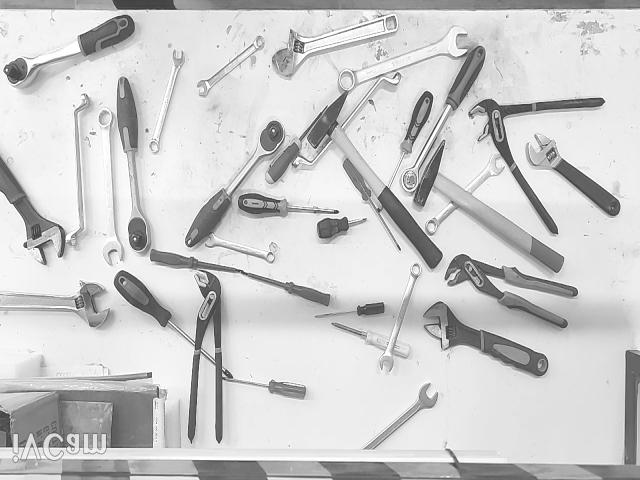Adjustable spanner: (423, 301, 548, 377), (271, 13, 399, 80), (526, 134, 620, 217), (0, 158, 65, 265), (0, 282, 109, 328)
Gas wrench: (469, 98, 605, 235), (445, 253, 579, 330), (188, 270, 222, 444)
Hammer: (307, 88, 445, 269), (413, 138, 565, 274)
Ratchet: (185, 119, 285, 247), (400, 46, 486, 193), (4, 15, 135, 87), (116, 77, 150, 253)
Screwdriver: (114, 271, 235, 378), (377, 92, 434, 213), (342, 157, 401, 252), (265, 103, 328, 185), (242, 273, 331, 307), (330, 323, 410, 357), (238, 193, 339, 217), (150, 248, 244, 273), (222, 377, 306, 400), (318, 217, 367, 240), (315, 302, 385, 318)
Wrench: (291, 71, 403, 167), (338, 27, 468, 95), (425, 155, 505, 235), (364, 384, 439, 449), (380, 263, 421, 372), (195, 37, 264, 98), (98, 108, 124, 265), (65, 93, 90, 248), (150, 50, 185, 153), (204, 232, 275, 263)
